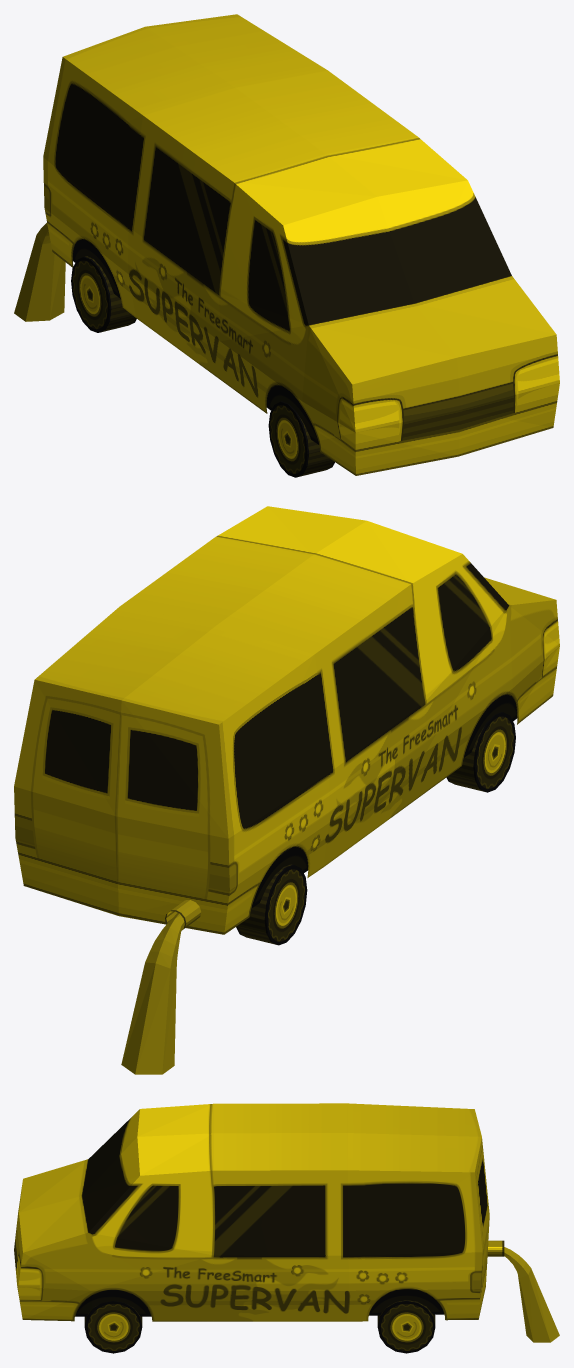
The model's file is supervan.obj.
3 views of the same model, one above another, from view 1: azimuth 30°, elevation 25°; view 2: azimuth 150°, elevation 25°; view 3: azimuth 270°, elevation 25° (orthographic). The views are drawn at different scales.
Visible parts, largest first — view 1: supervan; view 2: supervan; view 3: supervan.
Boxes of the visible parts, box(x1,y1,x2,y2) form: supervan: box(14, 14, 559, 477); supervan: box(14, 506, 559, 1074); supervan: box(14, 1103, 559, 1353).
Size of the model in its own units: 3.57 by 4.88 by 10.67.
